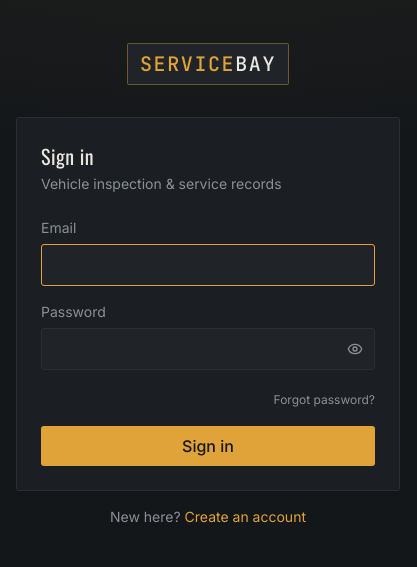
Test: LoginPage › shows the server error message on failed login
In the field labelled "Email": (208, 265) [41,244,375,286], type "a@b.com"
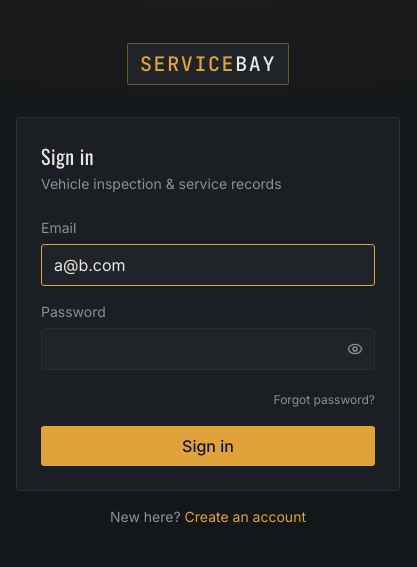
In the password field labelled "Password": (208, 349) [41,328,375,370], type "wrongpass"
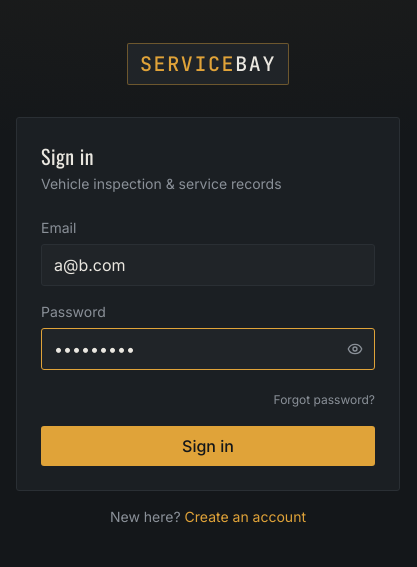
Click the button "Sign in": (208, 446) [41,426,375,466]
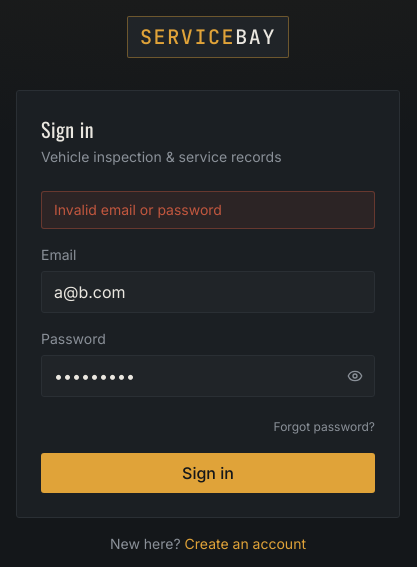
Check: the text "Invalid email or password" is shown, box [41,191,375,229]
